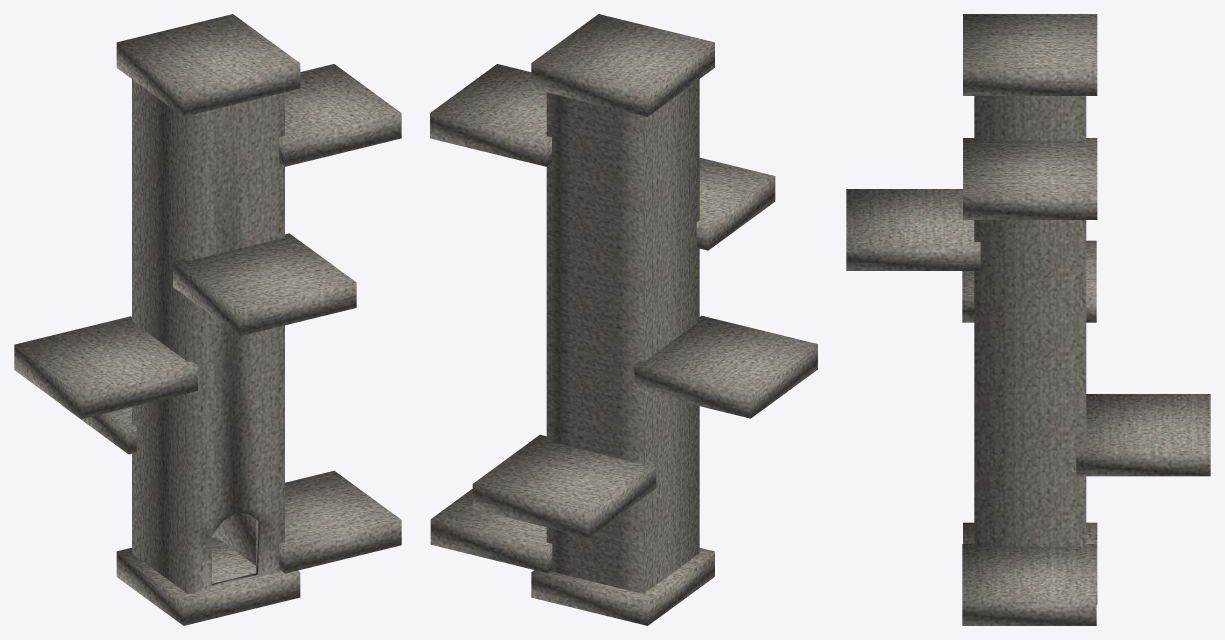
File: cat_tower_2.gltf
3 renders of one model, left to right at view 1: azimuth 30°, elevation 25°; view 2: azimuth 150°, elevation 25°; view 3: azimuth 270°, elevation 25°, orthographic.
Visible parts, largest first — view 1: Cube_0; view 2: Cube_0; view 3: Cube_0.
Boxes of the visible parts, x1,y1,x2,y2 form: Cube_0: (14,14,401,625); Cube_0: (430,14,817,625); Cube_0: (846,14,1210,625).
Bounding box in the file's own units: 6.6 × 10.53 × 6.51.
Materials: 1 (1 with a texture image).
